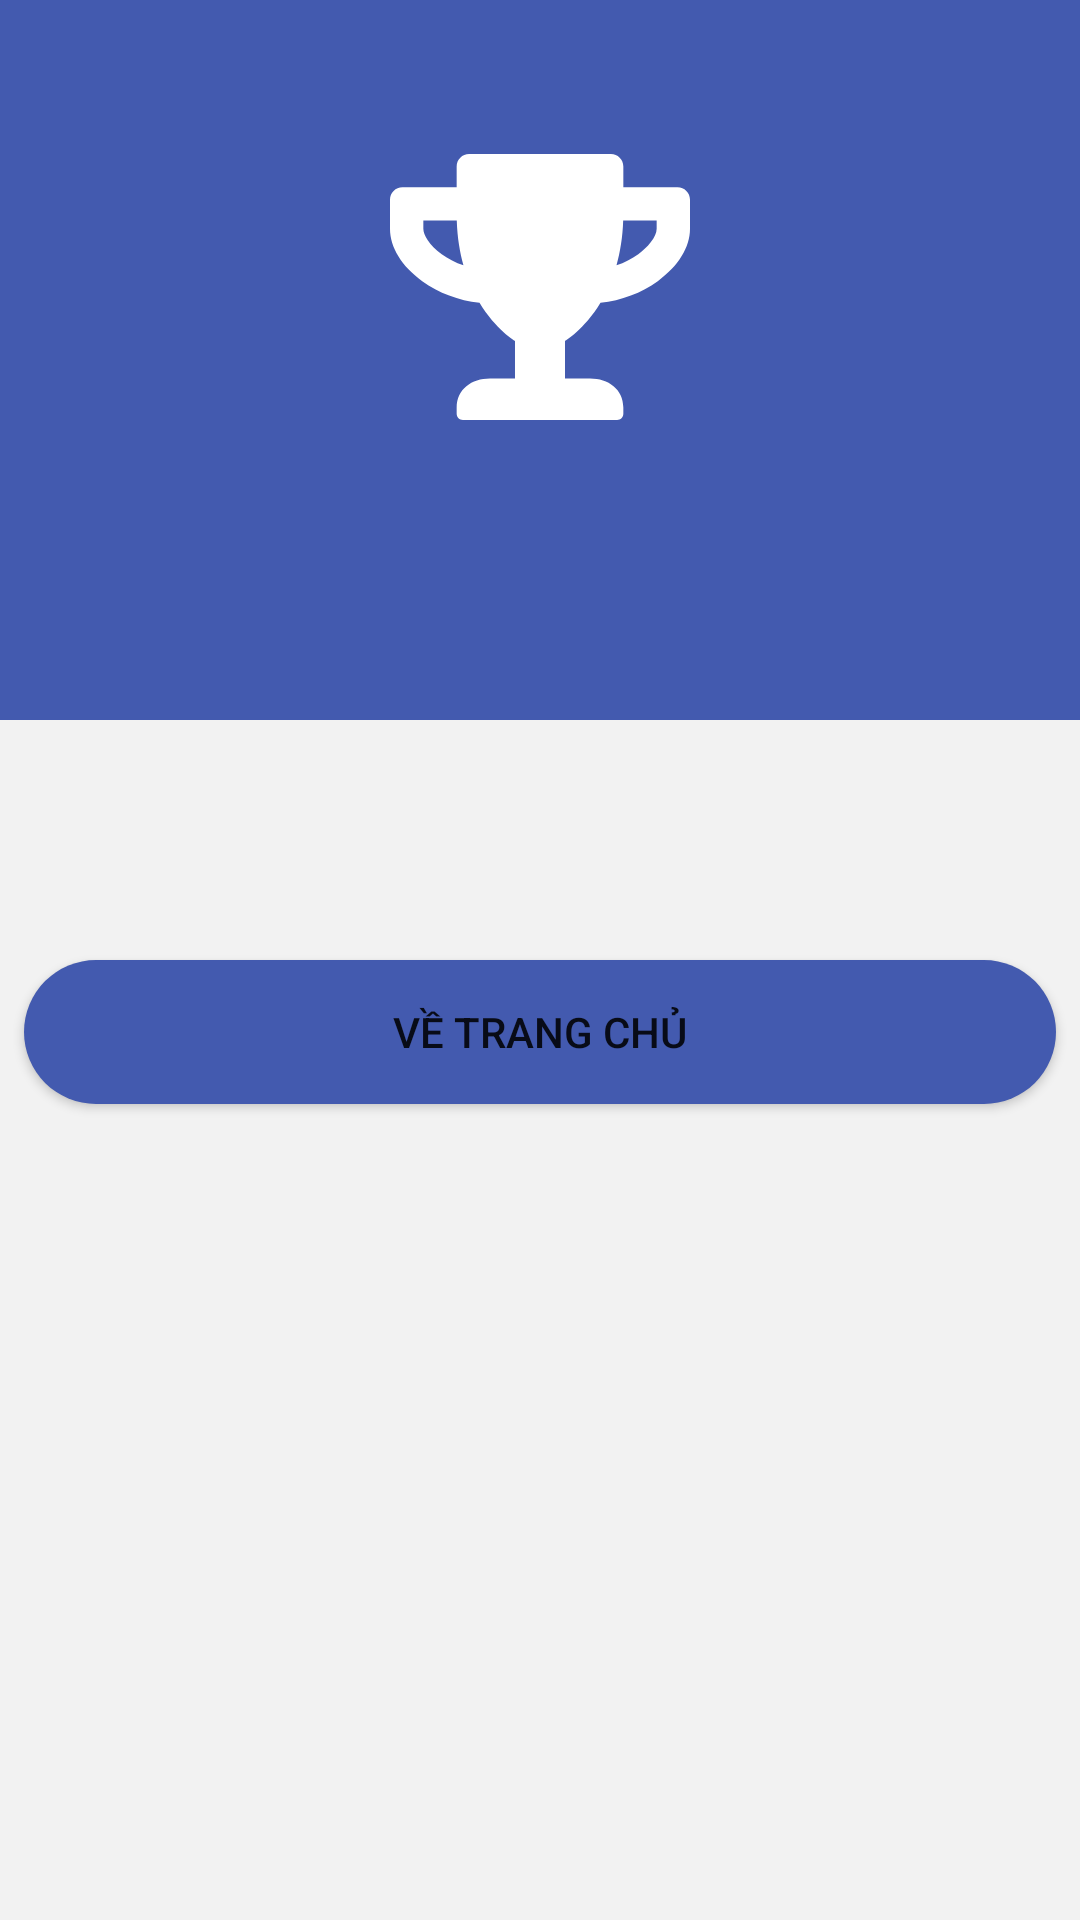

Icon click points for this 1080 × 1920 phone screenshot, format [x,y]:
trophy: [540,287]
